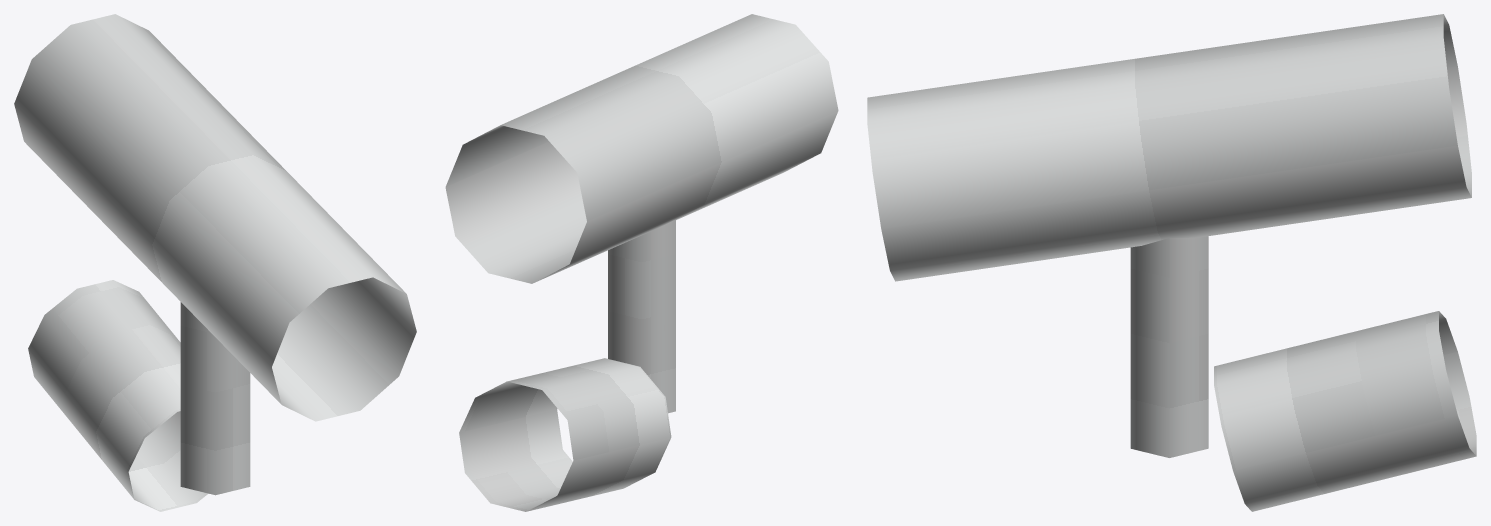
Rendered from trusssignalarm_sloped12_c13.obj.
The picture shows the model from 3 angles, left to right: view 1: azimuth 30°, elevation 25°; view 2: azimuth 150°, elevation 25°; view 3: azimuth 270°, elevation 25°; orthographic projection. The views are drawn at different scales.
Parts seen in each view (by area): view 1: trusssignalarm_sloped12_c13; view 2: trusssignalarm_sloped12_c13; view 3: trusssignalarm_sloped12_c13.
Boxes of the visible parts, left/top/right/bottom form: trusssignalarm_sloped12_c13: left=14, top=14, right=416, bottom=511; trusssignalarm_sloped12_c13: left=445, top=14, right=838, bottom=511; trusssignalarm_sloped12_c13: left=867, top=14, right=1476, bottom=511.
Bounding box in the file's own units: 0.325 × 0.9105 × 1.06.
